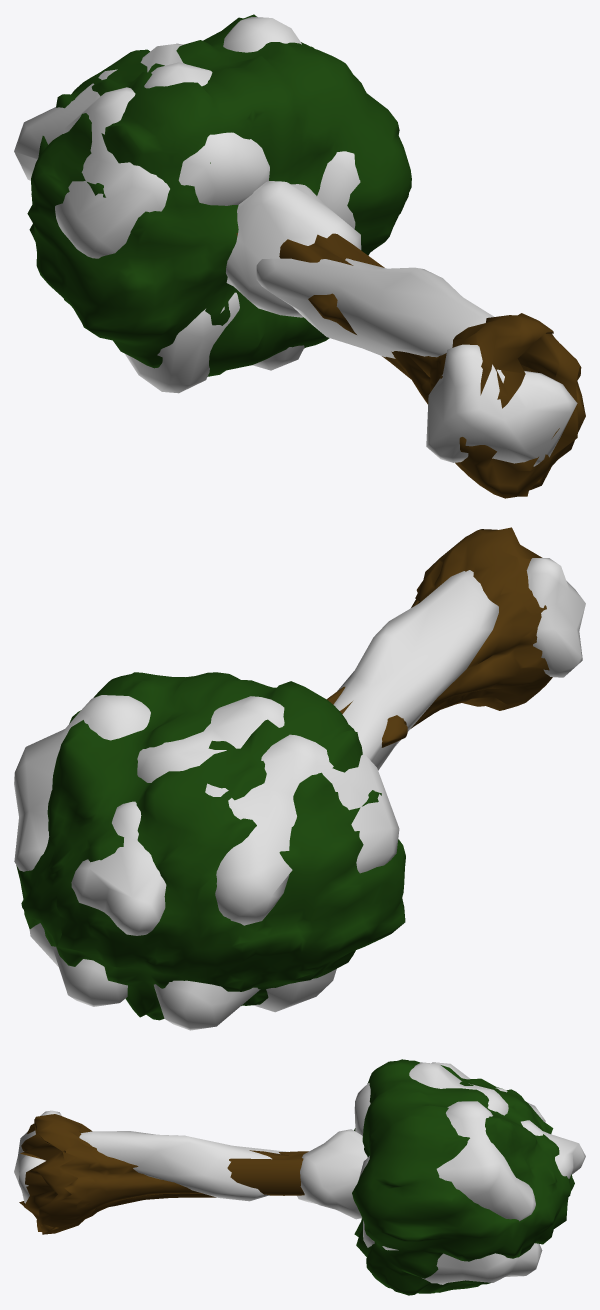
File: Arbol.fbx
The picture shows the model from 3 angles, top to bottom: view 1: azimuth 30°, elevation 25°; view 2: azimuth 150°, elevation 25°; view 3: azimuth 270°, elevation 25°; orthographic projection. The views are drawn at different scales.
Visible parts, largest first — view 1: Arbol, Mball.013; view 2: Arbol, Mball.013; view 3: Arbol, Mball.013.
Boxes of the visible parts, box(x1,y1,x2,y2) form: Arbol: box(27, 14, 585, 498); Mball.013: box(14, 17, 577, 466); Arbol: box(16, 527, 552, 1020); Mball.013: box(14, 558, 585, 1030); Arbol: box(19, 1059, 574, 1295); Mball.013: box(14, 1062, 585, 1284).
Bounding box in the file's own units: 269 × 235 × 598.
